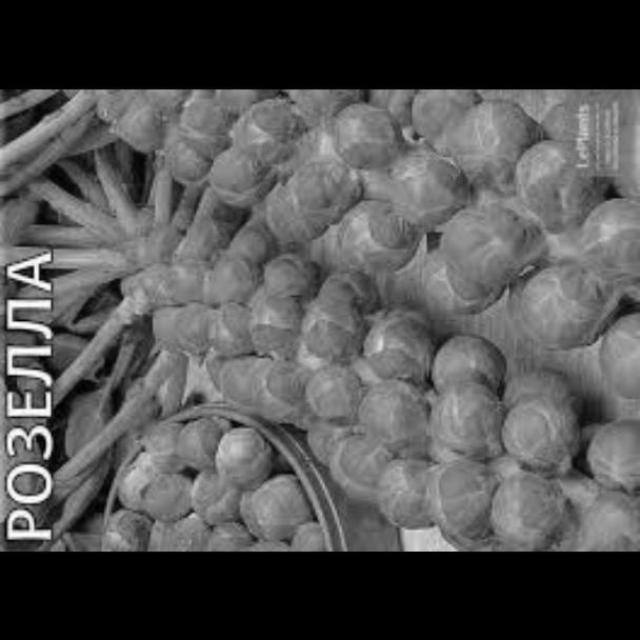bap cai ngot: (84, 249, 617, 543), (118, 90, 640, 285), (114, 417, 339, 551)
